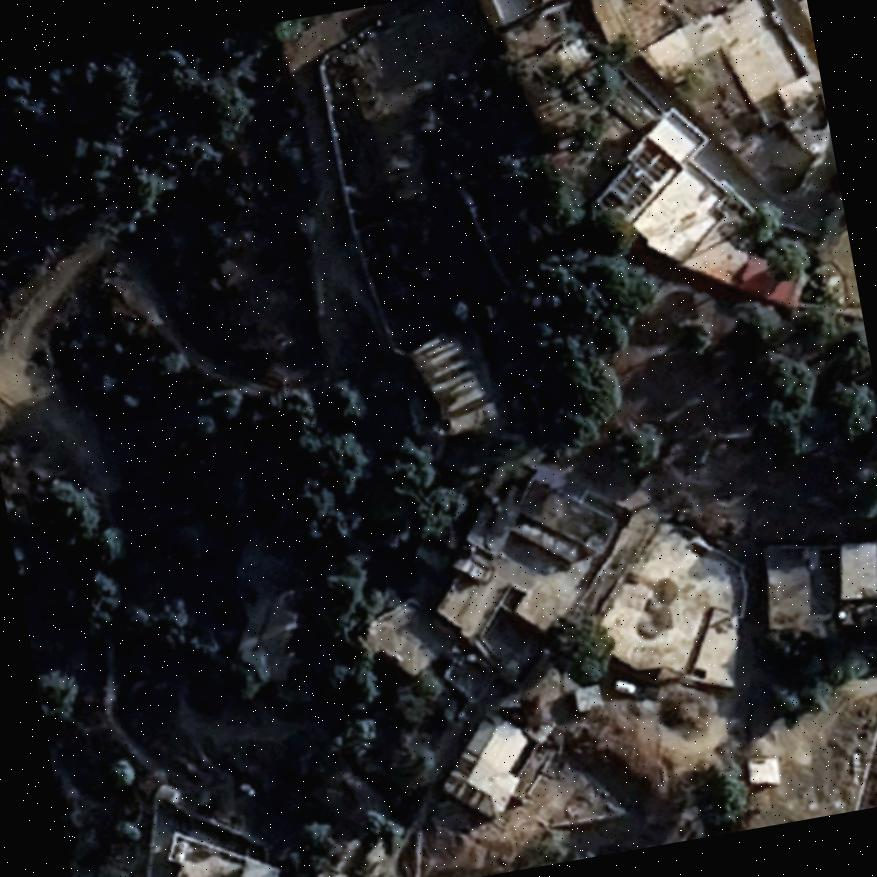Solarpanel: (599, 133, 678, 221)
